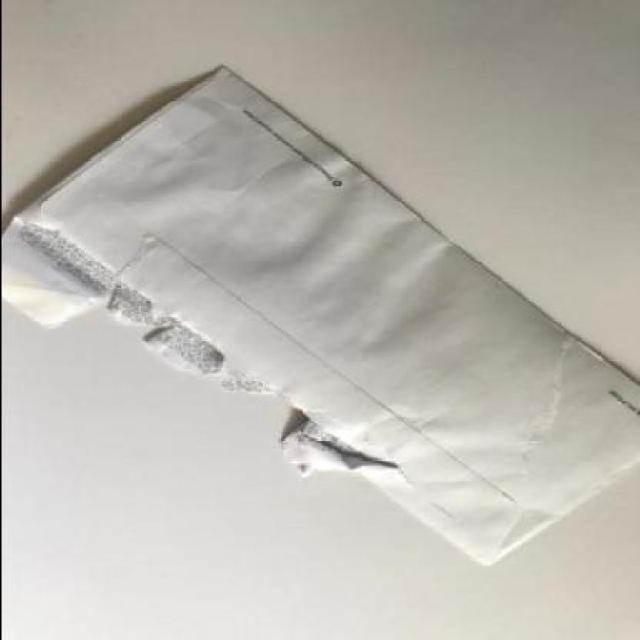PAPER: (1, 66, 638, 571)
